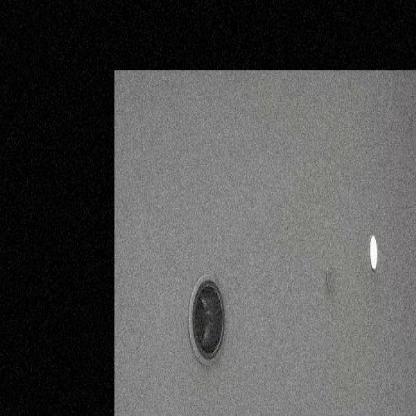light_off: (172, 246, 238, 384)
